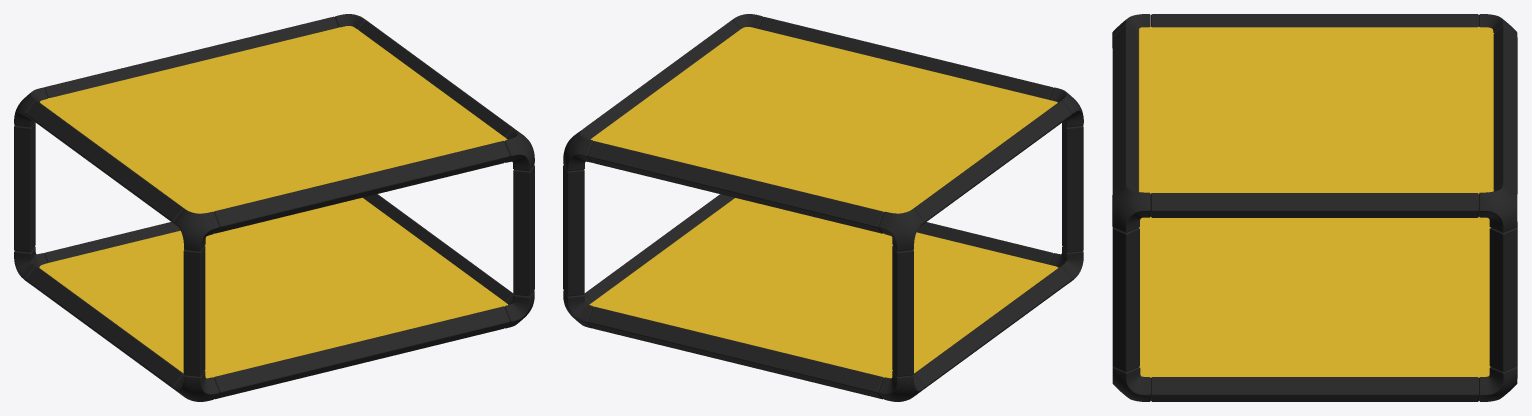
3 renders of one model, left to right at view 1: azimuth 30°, elevation 25°; view 2: azimuth 150°, elevation 25°; view 3: azimuth 270°, elevation 25°, orthographic. The views are drawn at different scales.
Parts seen in each view (by area): view 1: 374x329x154; view 2: 374x329x154; view 3: 374x329x154.
Part boxes in pixels (left/top/right/bottom): 374x329x154: left=14, top=14, right=534, bottom=401; 374x329x154: left=563, top=14, right=1083, bottom=401; 374x329x154: left=1112, top=14, right=1517, bottom=401.
Size of the model in its own units: 0.4517 by 0.2316 by 0.4063.
